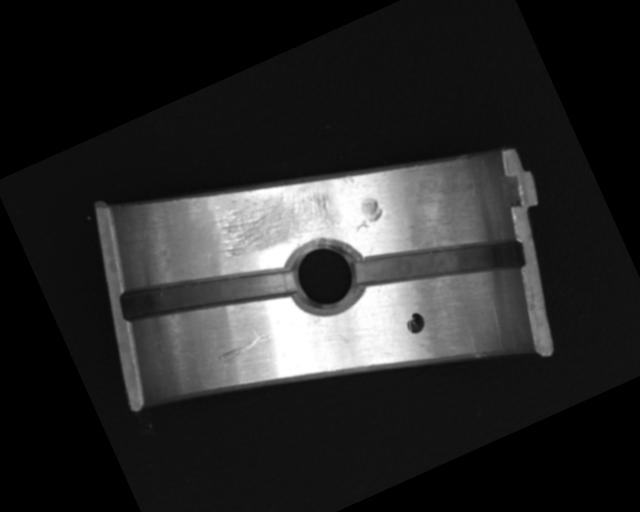blot: (402, 310, 428, 337)
bruise: (344, 193, 387, 234), (337, 170, 356, 188)
gap: (351, 196, 529, 331), (117, 227, 298, 358)
hole: (274, 225, 375, 327)
nick: (215, 329, 274, 367)
scratch: (202, 158, 348, 275)
